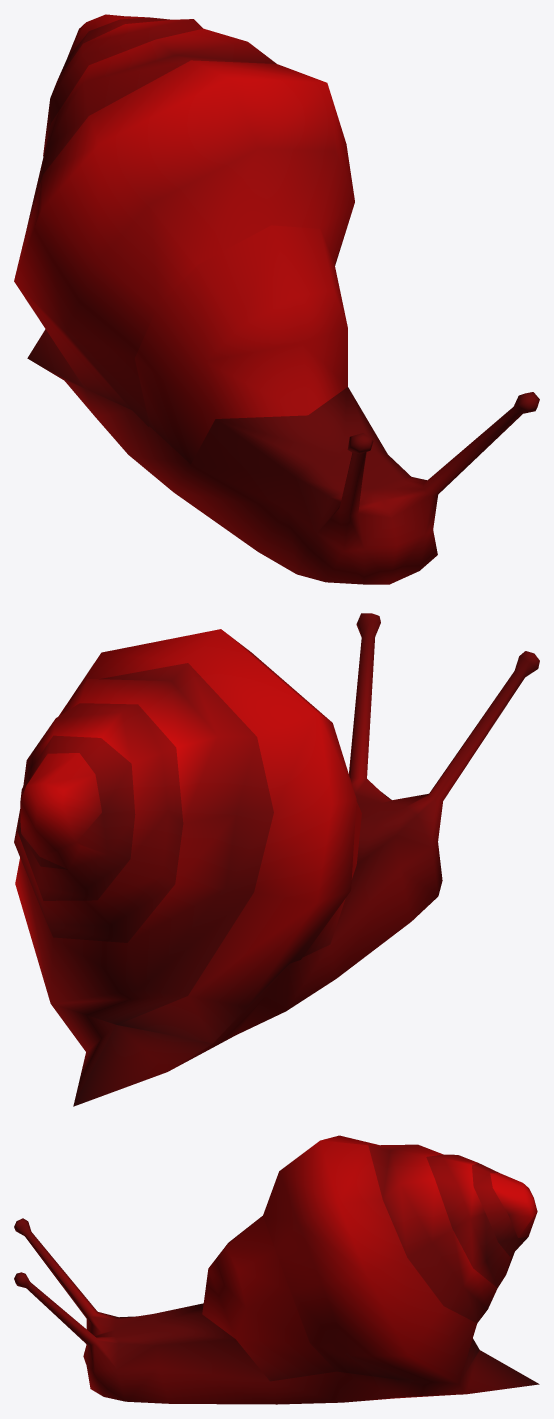
Rendered from Insects_Snail.fbx.
3 views of the same model, one above another, from view 1: azimuth 30°, elevation 25°; view 2: azimuth 150°, elevation 25°; view 3: azimuth 270°, elevation 25° (orthographic). The views are drawn at different scales.
Parts seen in each view (by area): view 1: base; view 2: base; view 3: base.
Boxes of the visible parts, x1=… form: base: x1=14, y1=14, x2=539, y2=584; base: x1=14, y1=613, x2=539, y2=1106; base: x1=14, y1=1135, x2=539, y2=1404.
Bounding box in the file's own units: 33.57 × 39.3 × 74.72.
